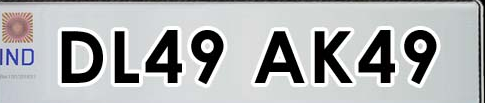4: (354, 25, 399, 89), (142, 27, 187, 85)
9: (400, 25, 439, 87), (189, 27, 225, 86)
A: (251, 28, 310, 88)
D: (57, 25, 107, 87)
K: (309, 27, 356, 87)
L: (110, 28, 142, 89)
